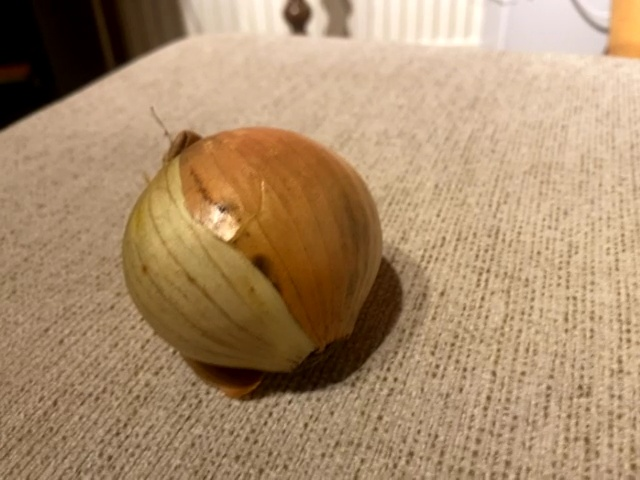onion: (115, 118, 388, 387)
